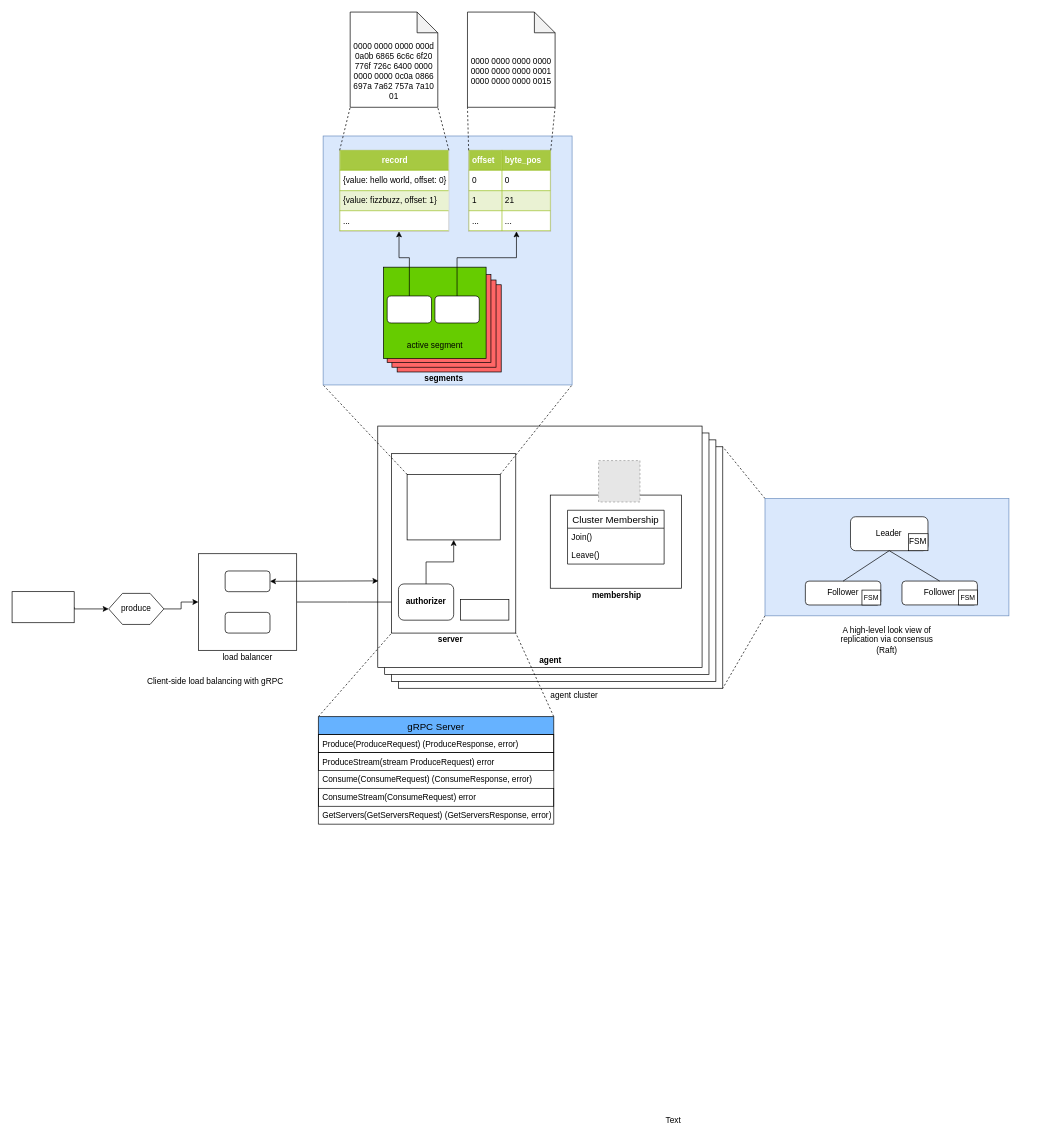
Some shapes in this 1039 by 1140 pixel diagram are drawn without their labels. Grey dashed boxes stand in for pictures. Each missing label, with the centre of its shape:
"client" goes at (42,607).
"index" goes at (456,309).
"log" goes at (453,507).
"picker" goes at (247,622).
"resolver" goes at (247,581).
"server info" goes at (484,609).
"store" goes at (409,309).
